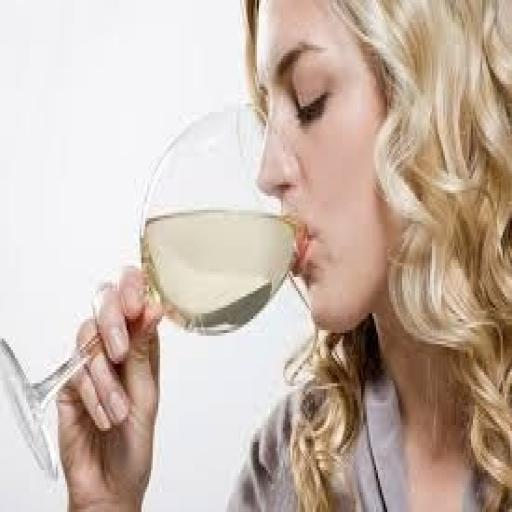drinking: (0, 97, 303, 478)
